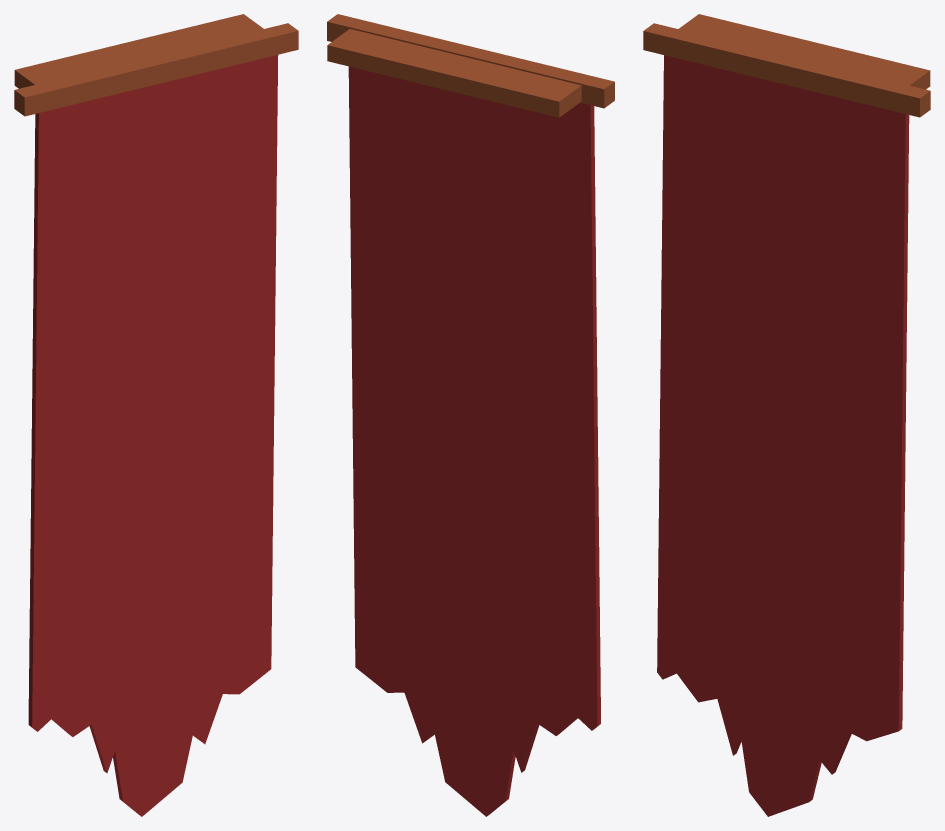
File: Prop_Fantasy_Wall_Banner_Tapestry_Hanging_Tattered_01.FBX
The picture shows the model from 3 angles, left to right: view 1: azimuth 30°, elevation 25°; view 2: azimuth 150°, elevation 25°; view 3: azimuth 330°, elevation 25°; orthographic projection.
Parts seen in each view (by area): view 1: Prop_Fantasy_Wall_Banner_Tapestry_Hanging_Tattered_01; view 2: Prop_Fantasy_Wall_Banner_Tapestry_Hanging_Tattered_01; view 3: Prop_Fantasy_Wall_Banner_Tapestry_Hanging_Tattered_01.
Boxes of the visible parts, left/top/right/bottom form: Prop_Fantasy_Wall_Banner_Tapestry_Hanging_Tattered_01: left=14, top=14, right=298, bottom=816; Prop_Fantasy_Wall_Banner_Tapestry_Hanging_Tattered_01: left=327, top=14, right=614, bottom=816; Prop_Fantasy_Wall_Banner_Tapestry_Hanging_Tattered_01: left=643, top=14, right=930, bottom=816.
Size of the model in its own units: 1503 by 3938 by 309.
